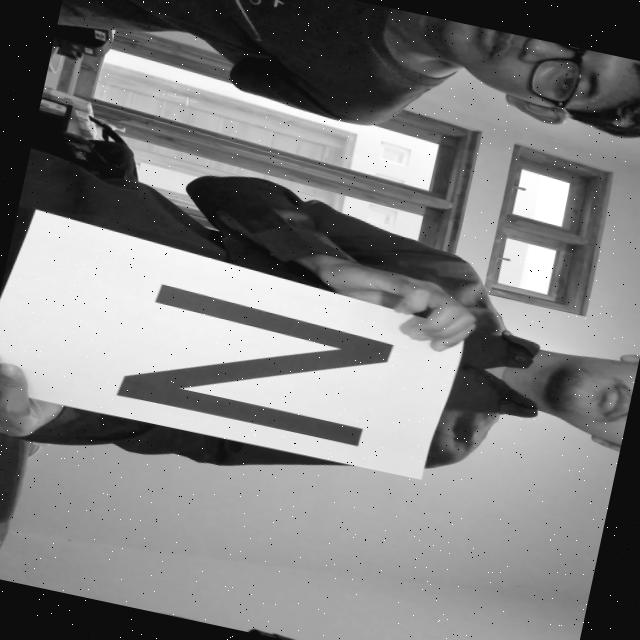n: (92, 248, 434, 479)
